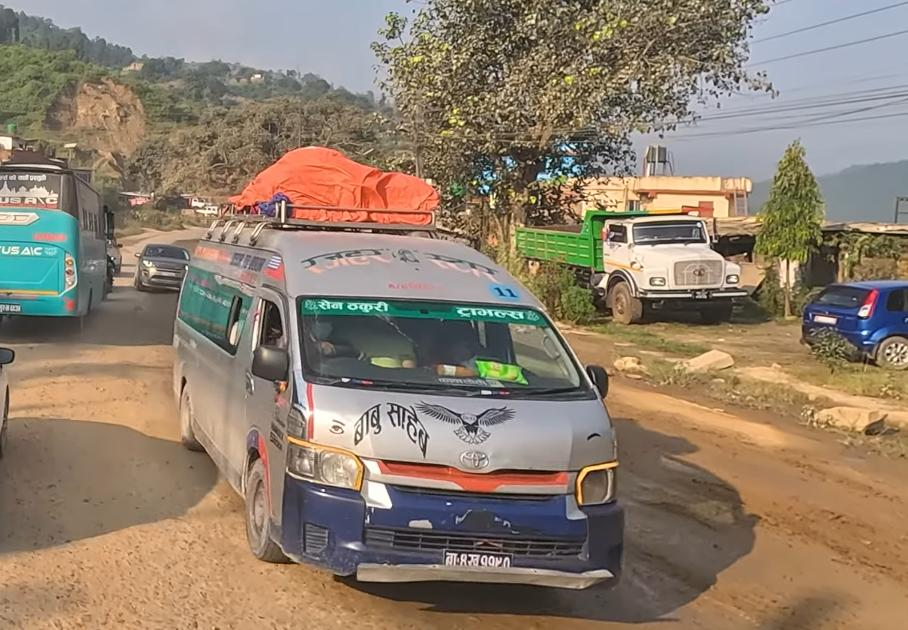bus: (0, 159, 110, 329)
car: (803, 281, 908, 373), (134, 240, 193, 294)
micro_bus: (164, 204, 628, 598)
truck: (514, 202, 750, 330)
